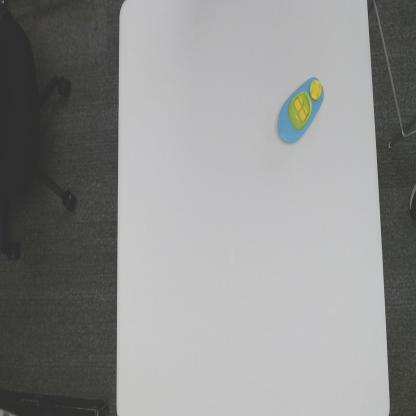Boat: (274, 74, 326, 152)
